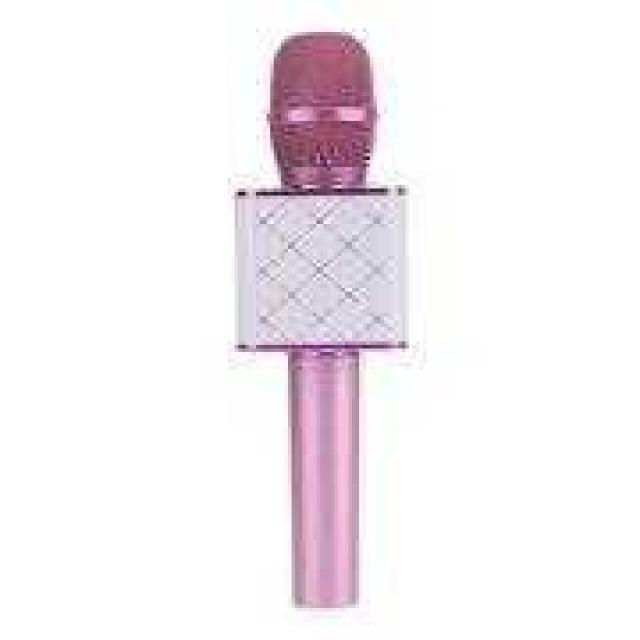microphone: (230, 16, 404, 620)
